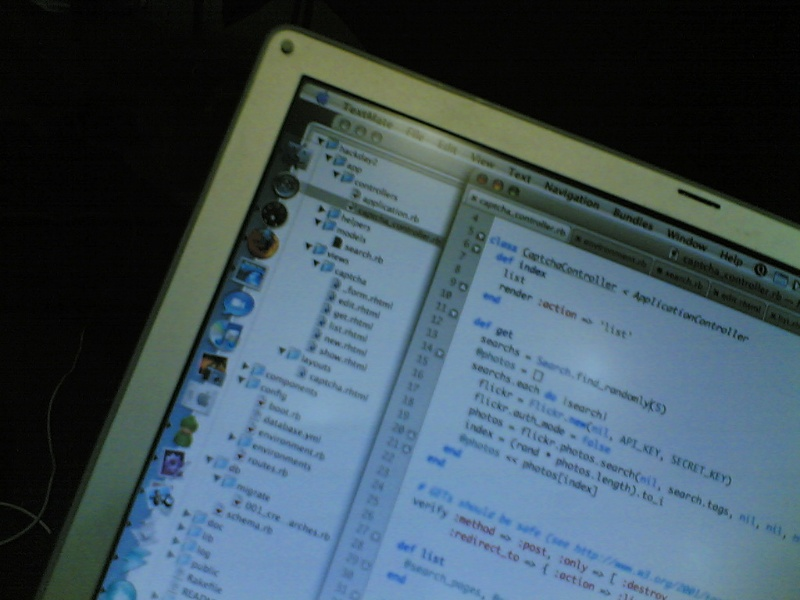laptop: (97, 23, 791, 600)
